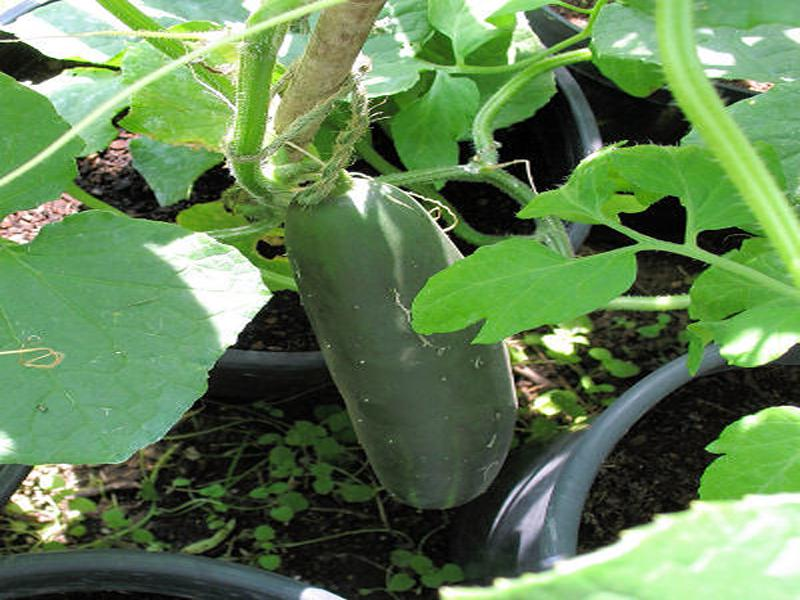Cucumber: (283, 175, 515, 509)
